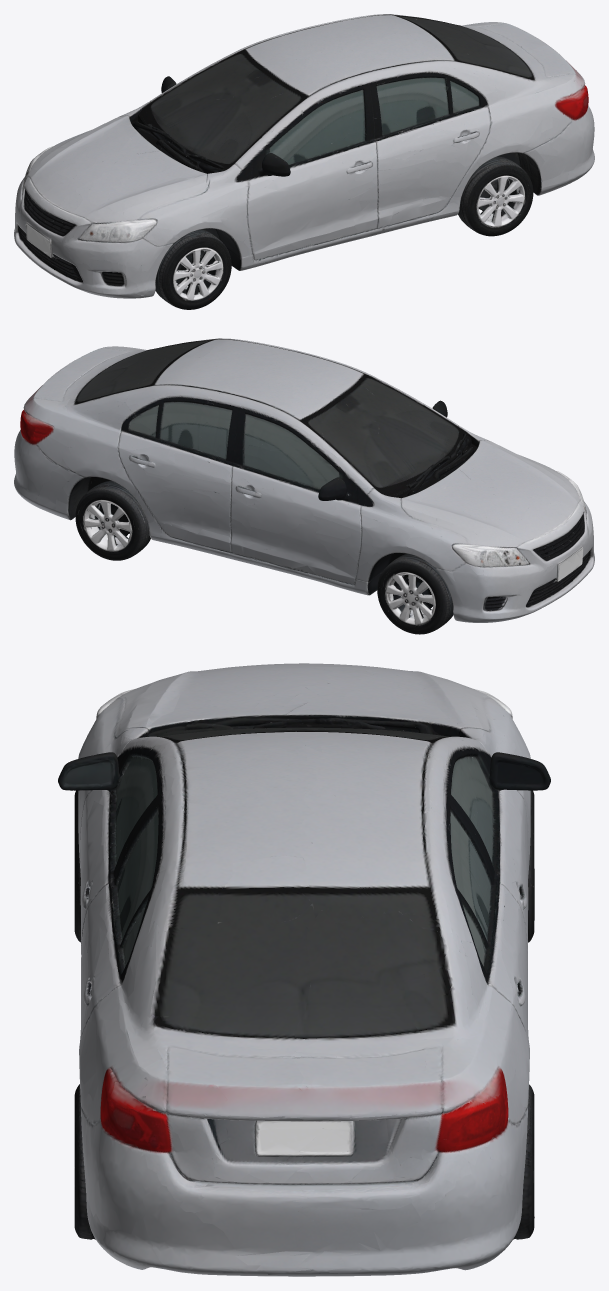
File: original-sedan.glb
3 renders of one model, top to bottom at view 1: azimuth 30°, elevation 25°; view 2: azimuth 150°, elevation 25°; view 3: azimuth 270°, elevation 25°, orthographic. The views are drawn at different scales.
Parts seen in each view (by area): view 1: Mesh_0; view 2: Mesh_0; view 3: Mesh_0.
Boxes of the visible parts, x1,y1,x2,y2 form: Mesh_0: [14, 14, 594, 309]; Mesh_0: [14, 338, 594, 634]; Mesh_0: [58, 663, 550, 1276].
Bounding box in the file's own units: 1.9 × 0.6006 × 0.7689.
Materials: 1 (1 with a texture image).
